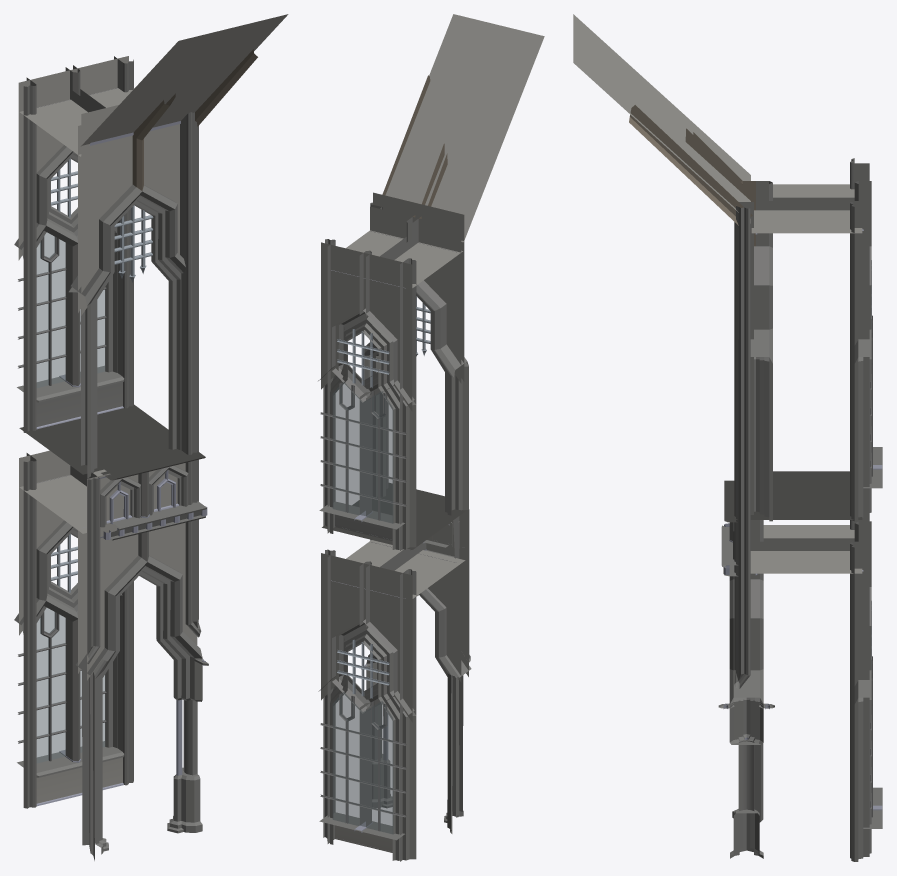
Rendered from Corner_Connection_Tile.fbx.
The picture shows the model from 3 angles, left to right: view 1: azimuth 30°, elevation 25°; view 2: azimuth 150°, elevation 25°; view 3: azimuth 270°, elevation 25°; orthographic projection. The views are drawn at different scales.
Parts seen in each view (by area): view 1: polySurface319, polySurface343, pCube426, pCube405, polySurface338, polySurface409, polySurface360, pCube456, pCube484, pCube440, polySurface471, polySurface473 (+23 smaller); view 2: pCube405, pCube440, pCube530, polySurface404, polySurface336, pCube426, polySurface319, polySurface371, polySurface470, polySurface471, polySurface472, polySurface473 (+21 smaller); view 3: polySurface319, pCube405, polySurface341, polySurface338, polySurface409, polySurface371, pCube484, polySurface360, pCube359, pCube428, polySurface336, polySurface404 (+6 smaller).
Part boxes in pixels (x1,y1,x2,y2): polySurface319: (76, 472, 208, 860); polySurface343: (78, 184, 185, 478); pCube426: (78, 105, 179, 315); pCube405: (81, 14, 288, 146); polySurface338: (23, 56, 133, 432); polySurface409: (23, 453, 133, 808); polySurface360: (180, 112, 199, 637); pCube456: (78, 463, 197, 680); pCube484: (19, 404, 181, 474); pCube440: (18, 56, 128, 260); polySurface471: (36, 608, 65, 763); polySurface473: (36, 232, 65, 387); pCube405: (385, 14, 544, 242); pCube440: (321, 242, 412, 411); pCube530: (321, 553, 412, 722); polySurface404: (318, 619, 416, 860); polySurface336: (318, 308, 416, 549); pCube426: (370, 192, 464, 383); polySurface319: (361, 542, 471, 833); polySurface371: (364, 280, 460, 515); polySurface470: (332, 692, 362, 826); polySurface471: (363, 701, 393, 834); polySurface472: (332, 382, 362, 515); polySurface473: (363, 391, 393, 523); polySurface319: (718, 520, 774, 858); pCube405: (573, 14, 750, 223); polySurface341: (738, 207, 750, 688); polySurface338: (850, 158, 869, 521); polySurface409: (850, 516, 869, 861); polySurface371: (756, 246, 772, 521); pCube484: (750, 471, 862, 519); polySurface360: (734, 202, 753, 688); pCube359: (750, 525, 862, 573); pCube428: (751, 184, 862, 233); polySurface336: (854, 246, 871, 521); polySurface404: (854, 587, 871, 861).
Size of the model in its own units: 4.15 by 31.03 by 10.7.
